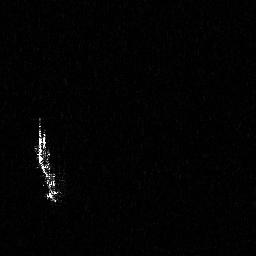ship: (31, 114, 62, 206)
